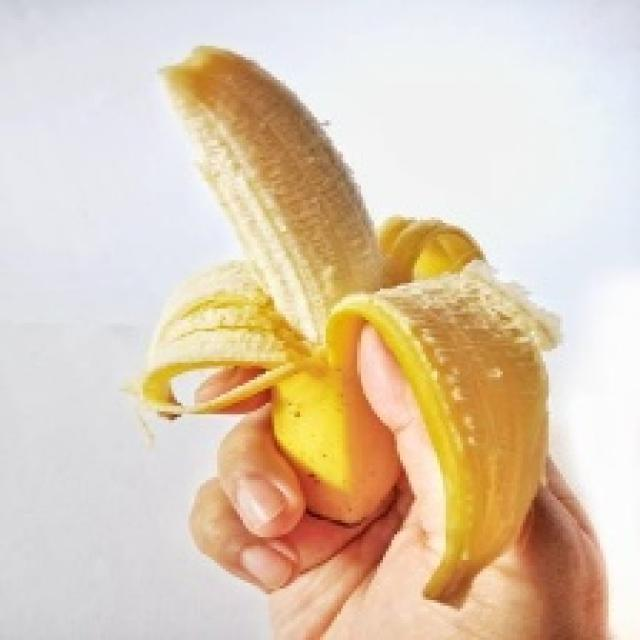Banana: (131, 43, 560, 603)
